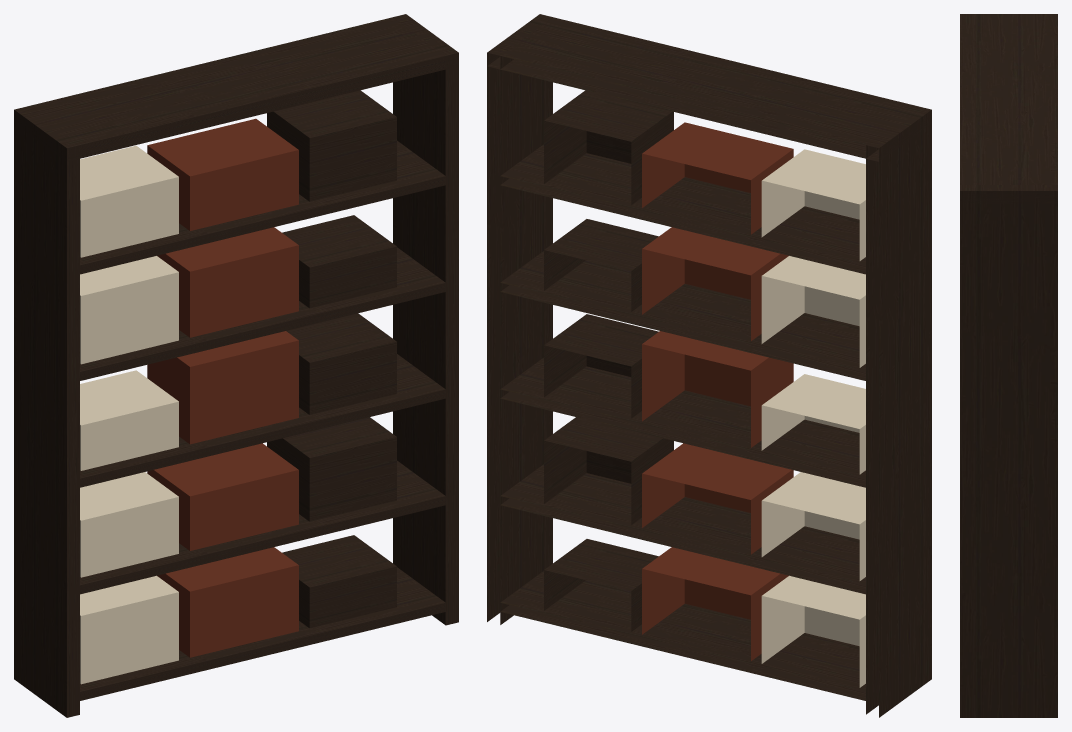
Rendered from bookshelf.glb.
3 renders of one model, left to right at view 1: azimuth 30°, elevation 25°; view 2: azimuth 150°, elevation 25°; view 3: azimuth 270°, elevation 25°, orthographic. The views are drawn at different scales.
Parts seen in each view (by area): view 1: bookshelf; view 2: bookshelf; view 3: bookshelf.
Part boxes in pixels (x1,y1,x2,y2): bookshelf: [14, 14, 458, 717]; bookshelf: [487, 14, 931, 717]; bookshelf: [960, 14, 1057, 717].
Bounding box in the file's own units: 1.8 × 2.5 × 0.42.
Materials: 3 (1 with a texture image).
